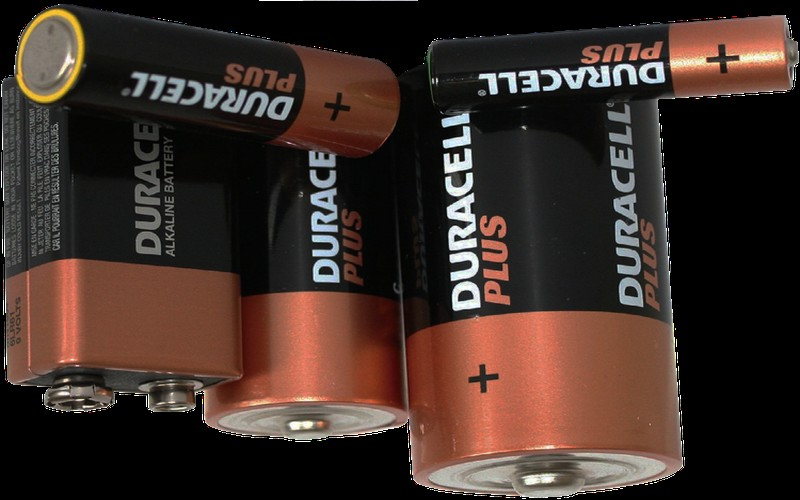Battery: (0, 47, 713, 410), (0, 0, 413, 182), (423, 0, 800, 125)
